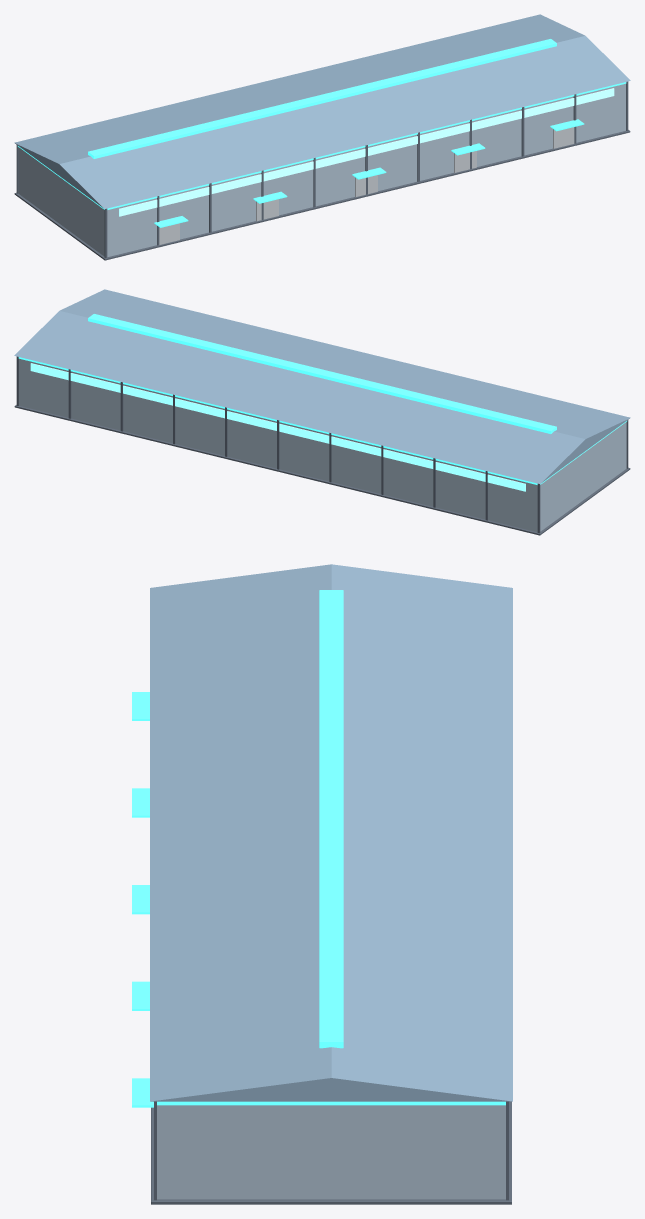
The model's file is planned-rebar-wh-v5-medium.glb.
3 renders of one model, top to bottom at view 1: azimuth 30°, elevation 25°; view 2: azimuth 150°, elevation 25°; view 3: azimuth 270°, elevation 25°, orthographic. The views are drawn at different scales.
Visible parts, largest first — view 1: planned-rebar-wh-v5-v5_planned_roof, planned-rebar-wh-v5-v5_planned_wall, planned-rebar-wh-v5-v5_site_cyan, planned-rebar-wh-v5-v5_curtain_glass, planned-rebar-wh-v5-v5_site_dark, planned-rebar-wh-v5-v5_site_silver; view 2: planned-rebar-wh-v5-v5_planned_roof, planned-rebar-wh-v5-v5_planned_wall, planned-rebar-wh-v5-v5_site_cyan, planned-rebar-wh-v5-v5_curtain_glass, planned-rebar-wh-v5-v5_site_dark; view 3: planned-rebar-wh-v5-v5_planned_roof, planned-rebar-wh-v5-v5_planned_wall, planned-rebar-wh-v5-v5_site_cyan, planned-rebar-wh-v5-v5_site_dark.
Boxes of the visible parts, x1=… form: planned-rebar-wh-v5-v5_planned_roof: x1=14, y1=14, x2=630, y2=208; planned-rebar-wh-v5-v5_planned_wall: x1=18, y1=83, x2=625, y2=257; planned-rebar-wh-v5-v5_site_cyan: x1=18, y1=39, x2=626, y2=227; planned-rebar-wh-v5-v5_curtain_glass: x1=119, y1=88, x2=614, y2=216; planned-rebar-wh-v5-v5_site_dark: x1=14, y1=81, x2=630, y2=260; planned-rebar-wh-v5-v5_site_silver: x1=159, y1=127, x2=574, y2=244; planned-rebar-wh-v5-v5_planned_roof: x1=14, y1=289, x2=630, y2=483; planned-rebar-wh-v5-v5_planned_wall: x1=19, y1=358, x2=626, y2=532; planned-rebar-wh-v5-v5_site_cyan: x1=18, y1=314, x2=626, y2=484; planned-rebar-wh-v5-v5_curtain_glass: x1=30, y1=363, x2=525, y2=491; planned-rebar-wh-v5-v5_site_dark: x1=14, y1=356, x2=630, y2=535; planned-rebar-wh-v5-v5_planned_roof: x1=150, y1=564, x2=512, y2=1101; planned-rebar-wh-v5-v5_planned_wall: x1=157, y1=1105, x2=505, y2=1199; planned-rebar-wh-v5-v5_site_cyan: x1=132, y1=590, x2=505, y2=1107; planned-rebar-wh-v5-v5_site_dark: x1=151, y1=1101, x2=511, y2=1204.
Size of the model in its own units: 121 by 14.58 by 38.
